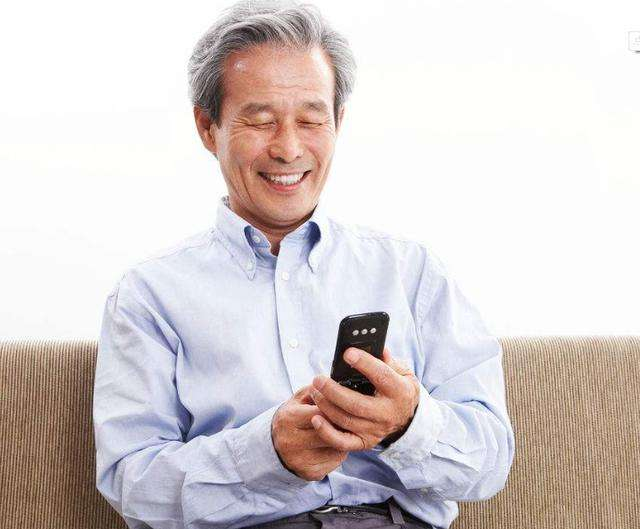reading: (272, 308, 417, 481)
